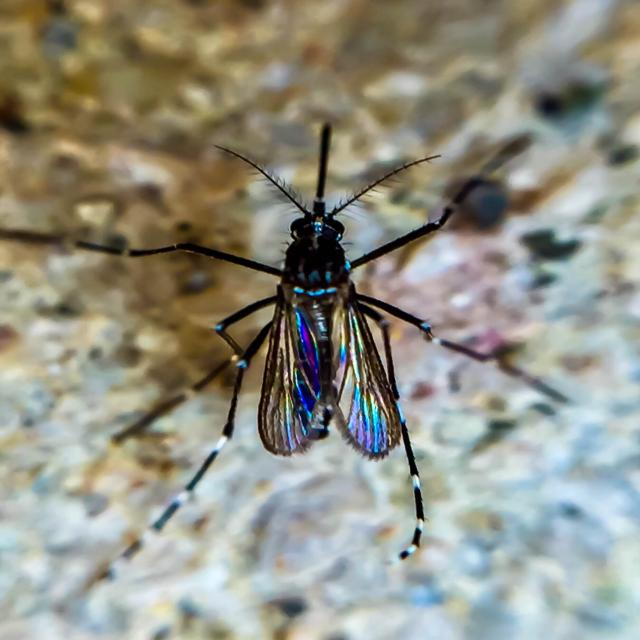albopictus: (28, 113, 594, 599)
